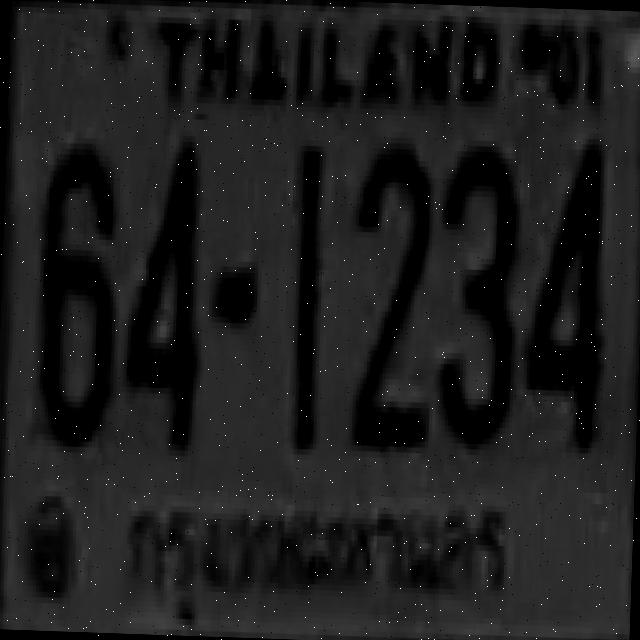1: (286, 142, 322, 446)
2: (348, 139, 432, 444)
3: (432, 140, 516, 444)
4: (120, 133, 202, 444), (522, 133, 603, 444)
6: (30, 136, 119, 442)
Bangkok: (115, 474, 525, 636)
